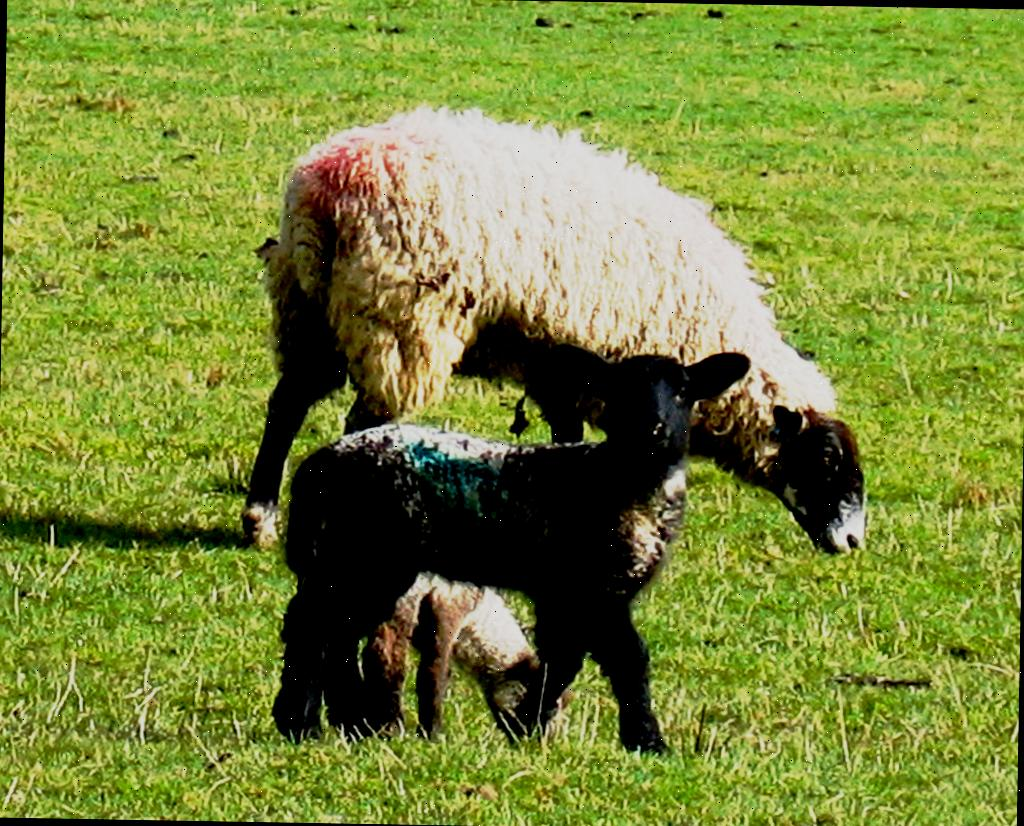Sheep: (236, 92, 874, 566), (272, 332, 752, 752), (362, 573, 546, 752)
